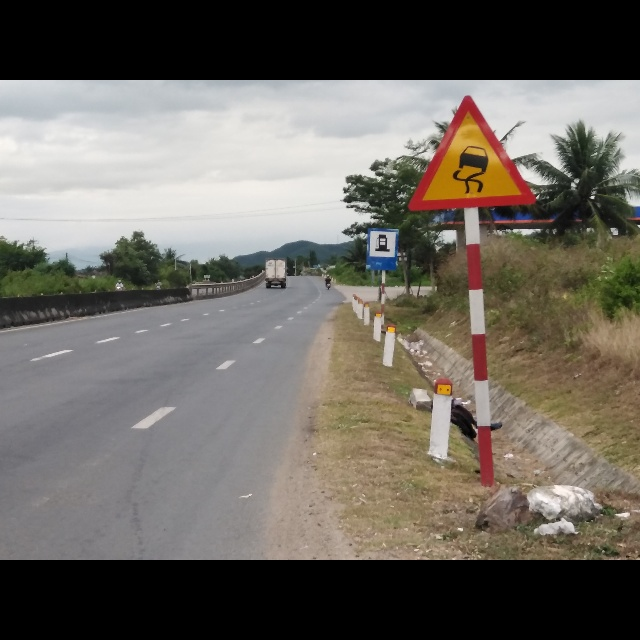Đường trơn trượt: (407, 94, 539, 211)
